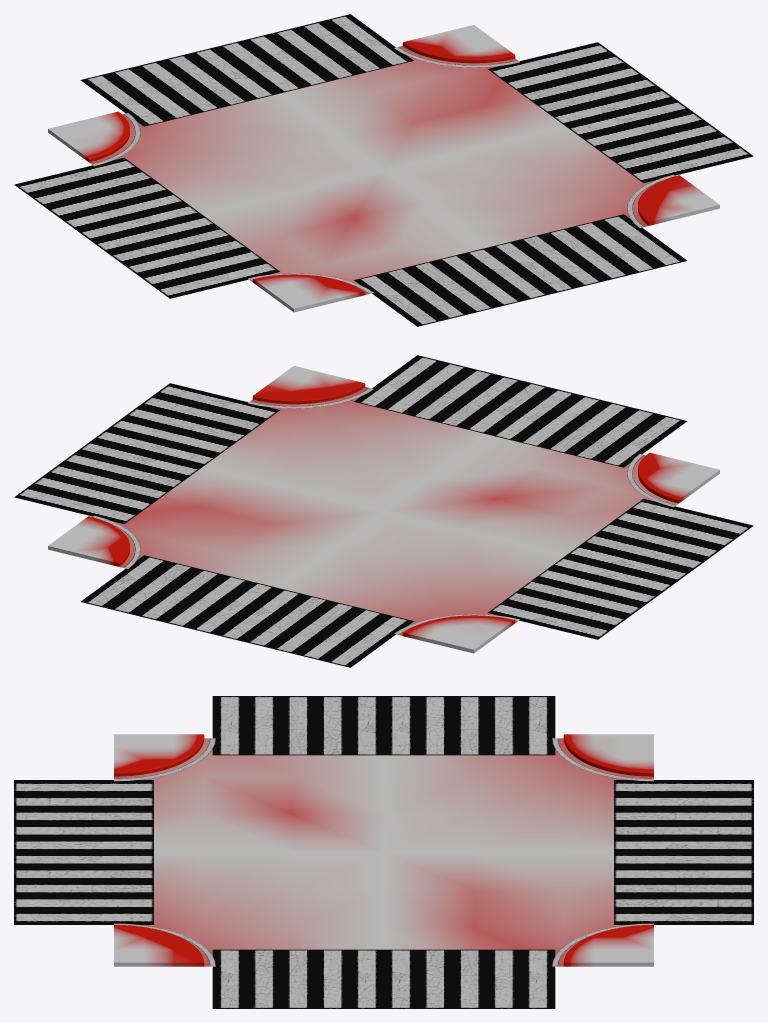
Rendered from Street_4WayIntersection.gltf.
3 renders of one model, top to bottom at view 1: azimuth 30°, elevation 25°; view 2: azimuth 150°, elevation 25°; view 3: azimuth 270°, elevation 25°, orthographic. The views are drawn at different scales.
Parts seen in each view (by area): view 1: Street_4WayIntersection; view 2: Street_4WayIntersection; view 3: Street_4WayIntersection.
Boxes of the visible parts, <box> form: Street_4WayIntersection: <box>14,14,753,326</box>; Street_4WayIntersection: <box>14,355,753,667</box>; Street_4WayIntersection: <box>14,696,753,1008</box>.
Size of what is drawn, in the model's own units: 24.67 by 0.15 by 24.67.
